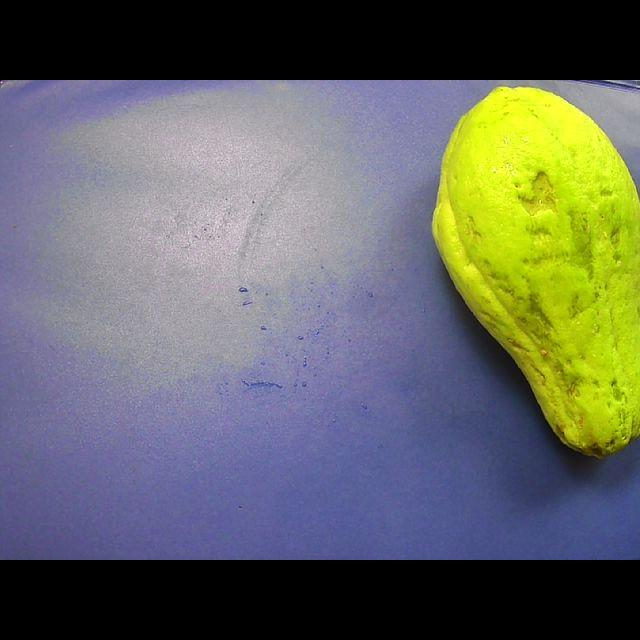chayote: (433, 87, 639, 457)
